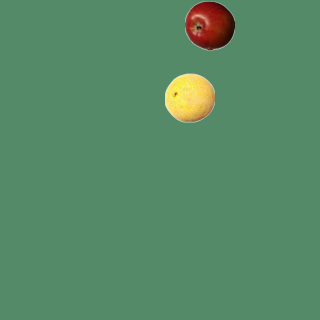Apple Braeburn: (184, 0, 234, 50)
Cantaloupe 1: (164, 72, 214, 122)
